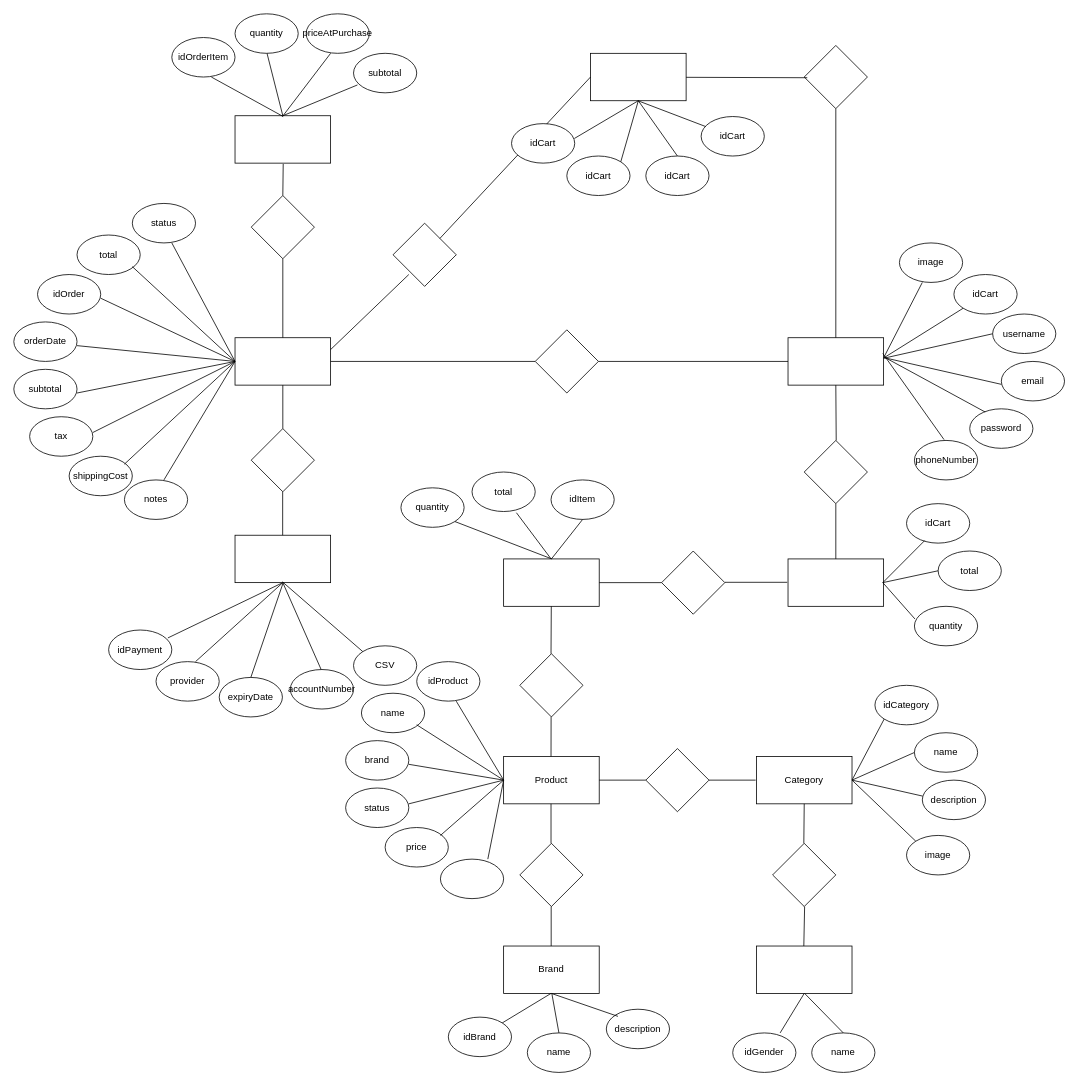
Some shapes in this 1078 by 1086 pixel diagram are drawn without their labels. The shapes that lost their labels are listed below. From the top down, each one's centre as x and y in pixels, then its label:
point 638,77: Address
point 282,139: OrderItem
point 282,361: Order
point 835,361: User
point 282,558: Payment
point 551,582: CartItem
point 835,582: Cart
point 677,780: has
point 472,878: stock
point 804,969: Gender
